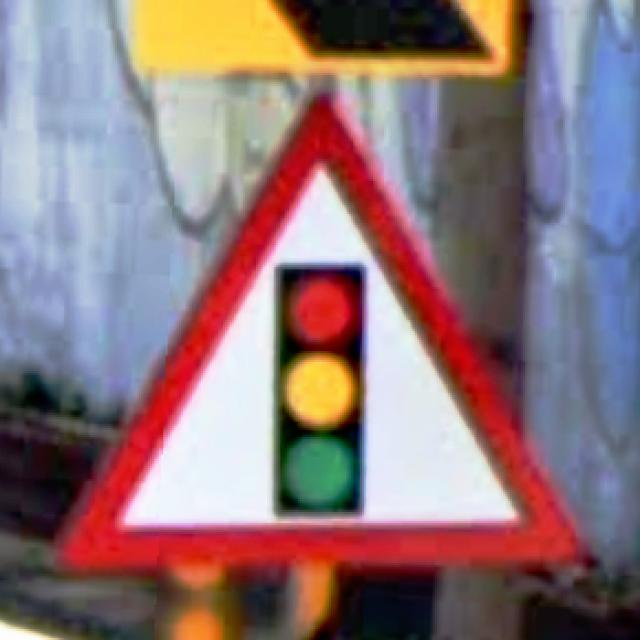signalahead: (48, 93, 585, 574)
